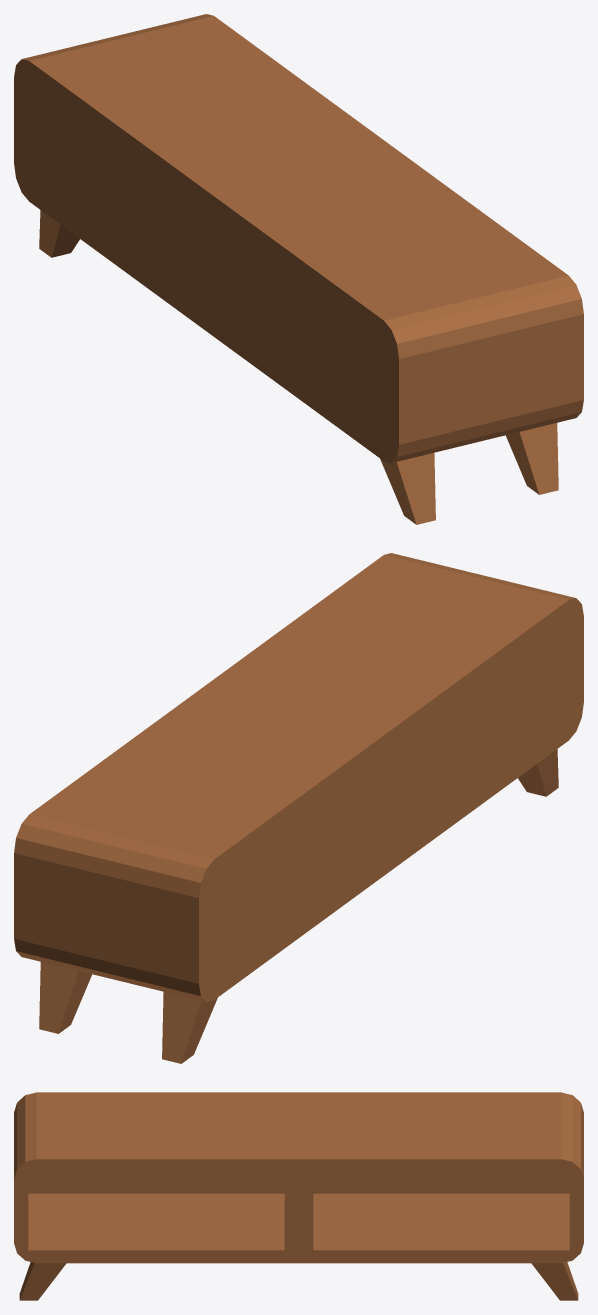
Rendered from TV_Stand.fbx.
3 renders of one model, top to bottom at view 1: azimuth 30°, elevation 25°; view 2: azimuth 150°, elevation 25°; view 3: azimuth 270°, elevation 25°, orthographic. The views are drawn at different scales.
Visible parts, largest first — view 1: TVCabinet; view 2: TVCabinet; view 3: TVCabinet.
Boxes of the visible parts, bbox=[...] form: TVCabinet: bbox=[14, 14, 583, 524]; TVCabinet: bbox=[14, 553, 583, 1063]; TVCabinet: bbox=[14, 1092, 583, 1300].
Size of the model in its own units: 1199 by 1247 by 4326.
